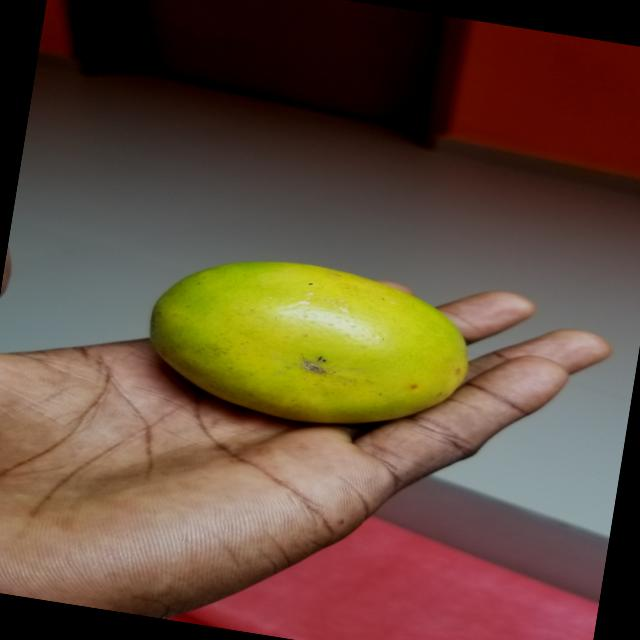Ripe orange: (136, 235, 478, 444)
